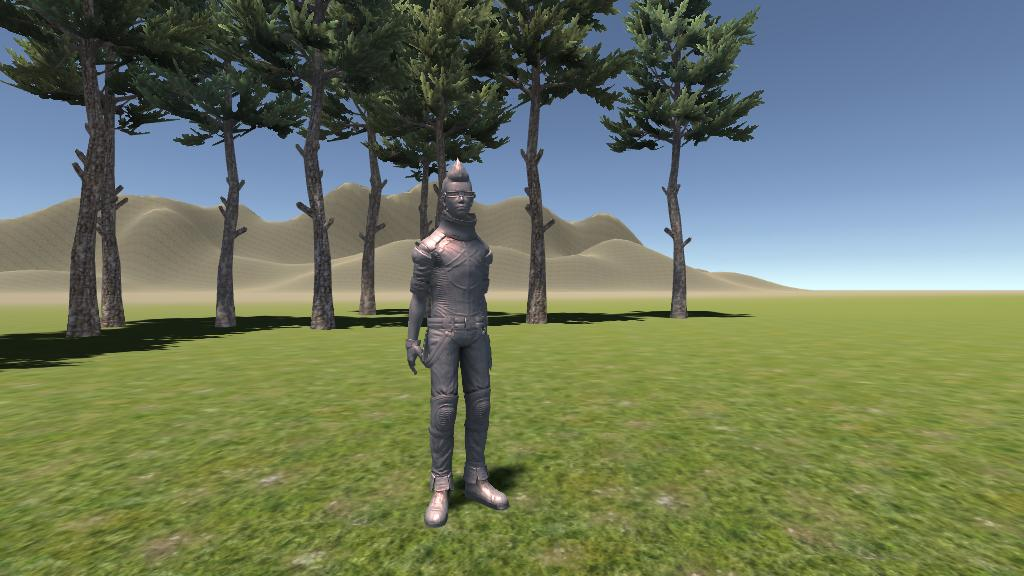ethan: (405, 158, 509, 530)
